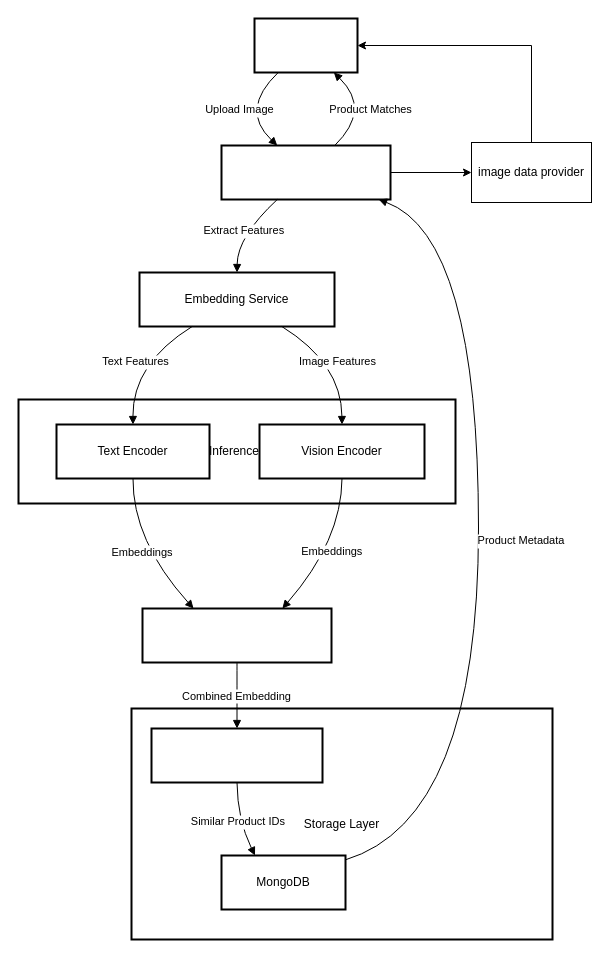
Image size: 609x957. Some labels were removed from this diagram. Here are the shapes that lost their labels. From the top down, the centre of each, then its label:
At (x=305, y=45): "Client".
At (x=305, y=172): "FastAPI Service".
At (x=236, y=635): "Feature Combiner".
At (x=236, y=755): "FAISS Vector DB".
